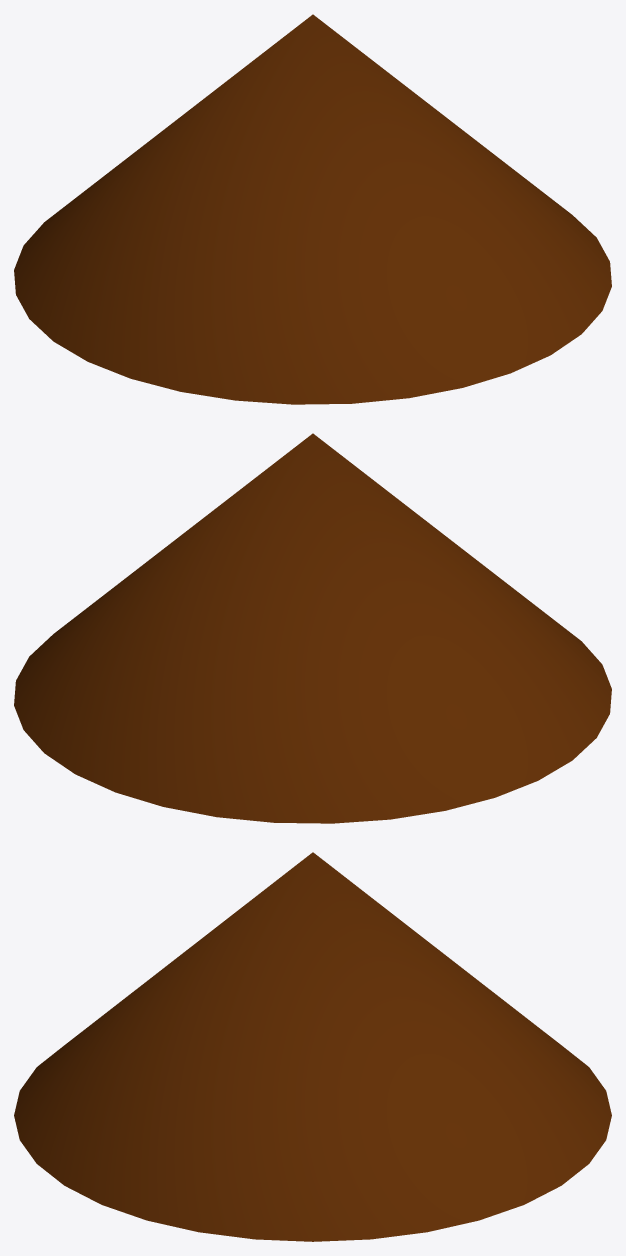
Rendered from powder_brown.glb.
The picture shows the model from 3 angles, top to bottom: view 1: azimuth 30°, elevation 25°; view 2: azimuth 150°, elevation 25°; view 3: azimuth 270°, elevation 25°; orthographic projection.
Visible parts, largest first — view 1: powder_brown; view 2: powder_brown; view 3: powder_brown.
Boxes of the visible parts, x1=… form: powder_brown: x1=14, y1=14, x2=611, y2=404; powder_brown: x1=14, y1=433, x2=611, y2=823; powder_brown: x1=14, y1=852, x2=611, y2=1241.
Size of the model in its own units: 0.0177 by 0.00859 by 0.0177.
